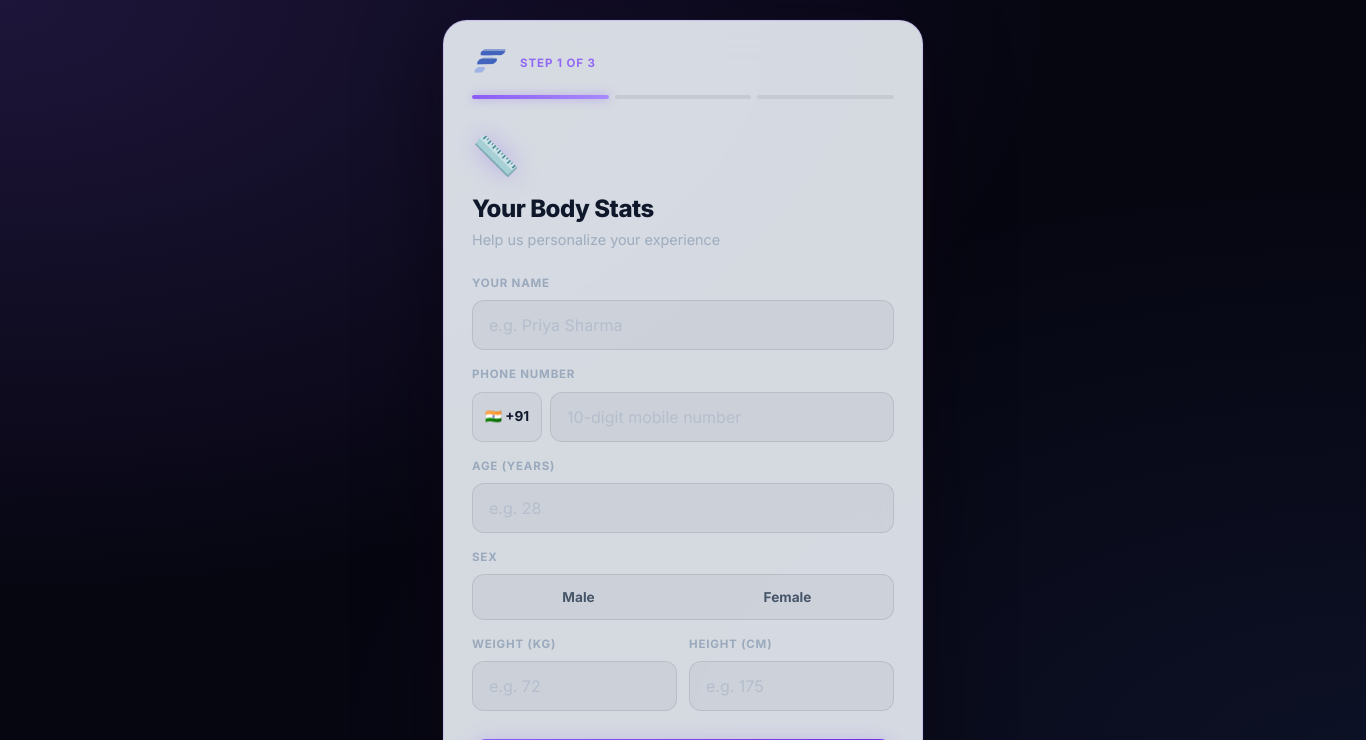
ClientOnboardingWizard step 1 body stats › moves on once all six fields are valid
The width and height of the screenshot is (1366, 740).
Type "Asha" into the field with placeholder "e.g. Priya Sharma" at (683,325), box [472,300,894,350]
Type "9876543210" into the field with placeholder "10-digit mobile number" at (722,416), box [550,392,894,442]
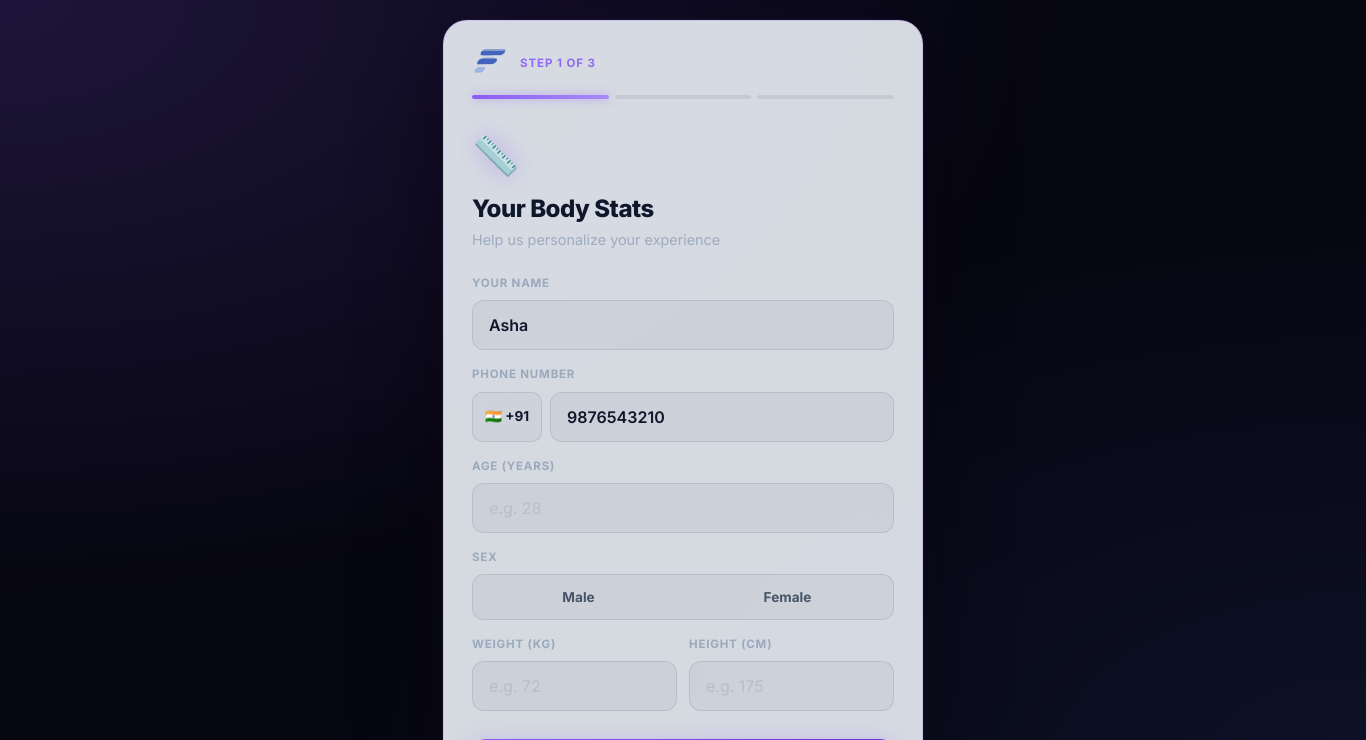
Type "29" into the number field with placeholder "e.g. 28" at (683,508), box [472,483,894,533]
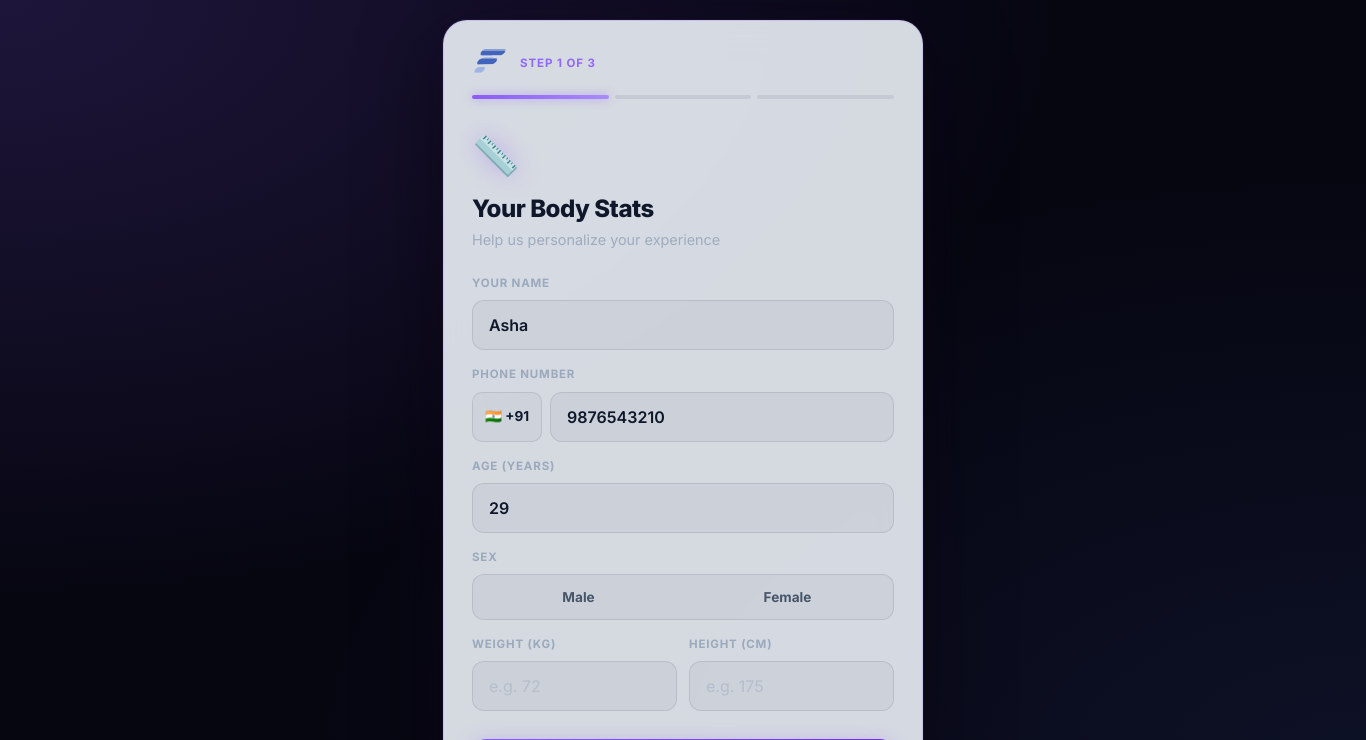
Click the radio button labelled "Female" at (788,597), box [686,579,889,615]
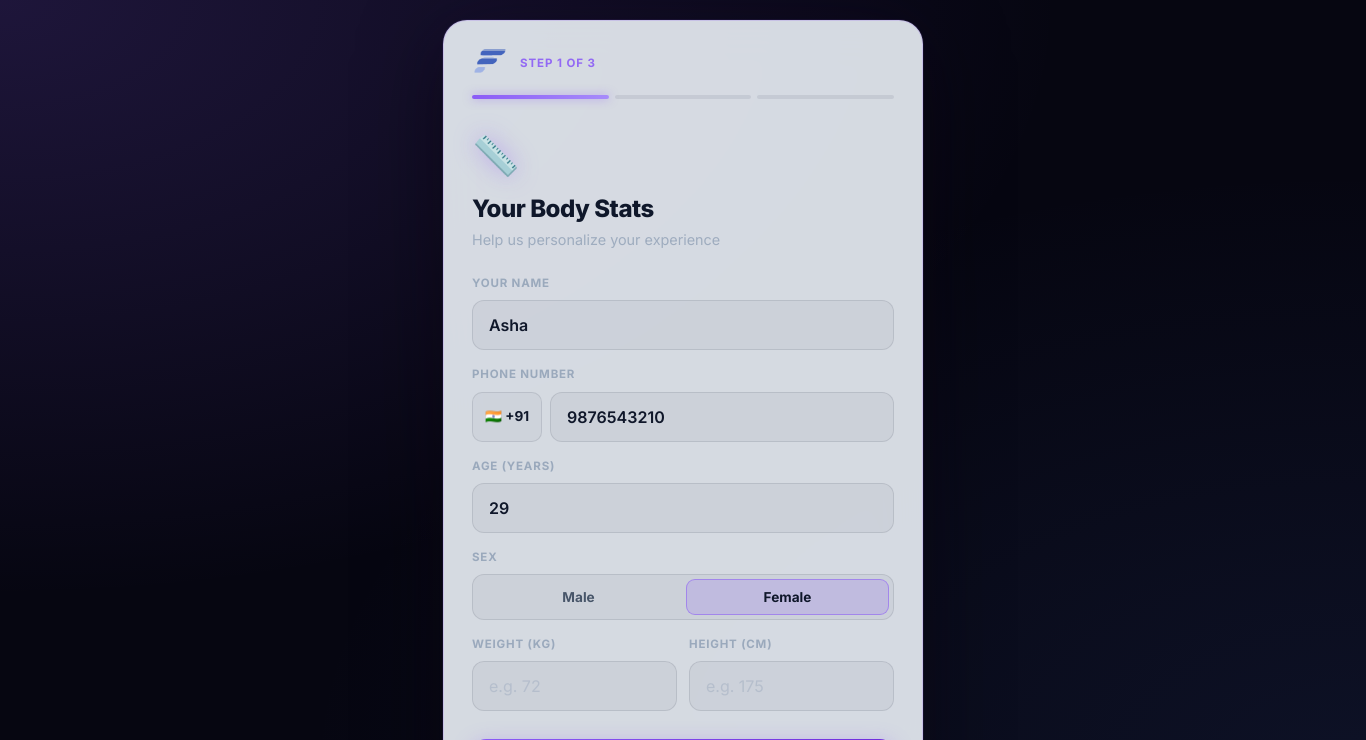
Type "64.5" into the number field with placeholder "e.g. 72" at (574,686), box [472,661,677,711]
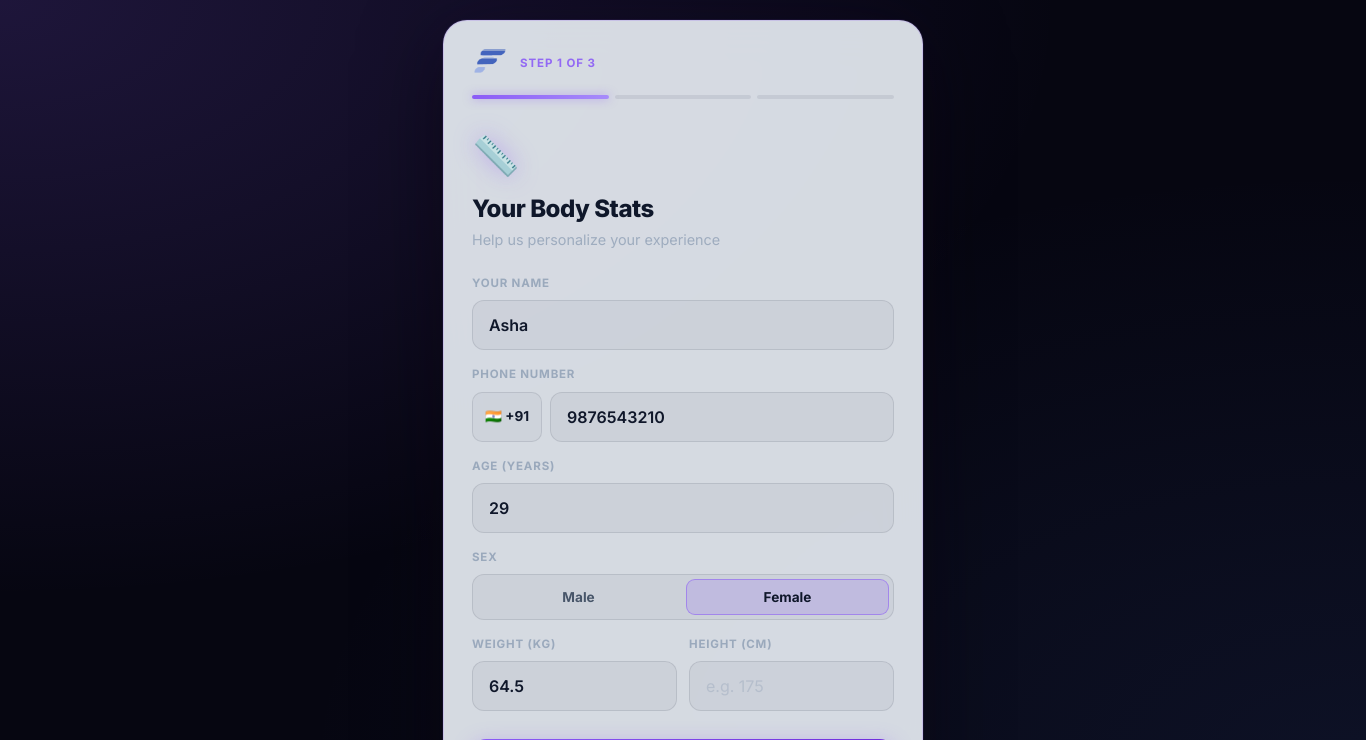
Type "162" into the number field with placeholder "e.g. 175" at (792,686), box [689,661,894,711]
(page scrolled)
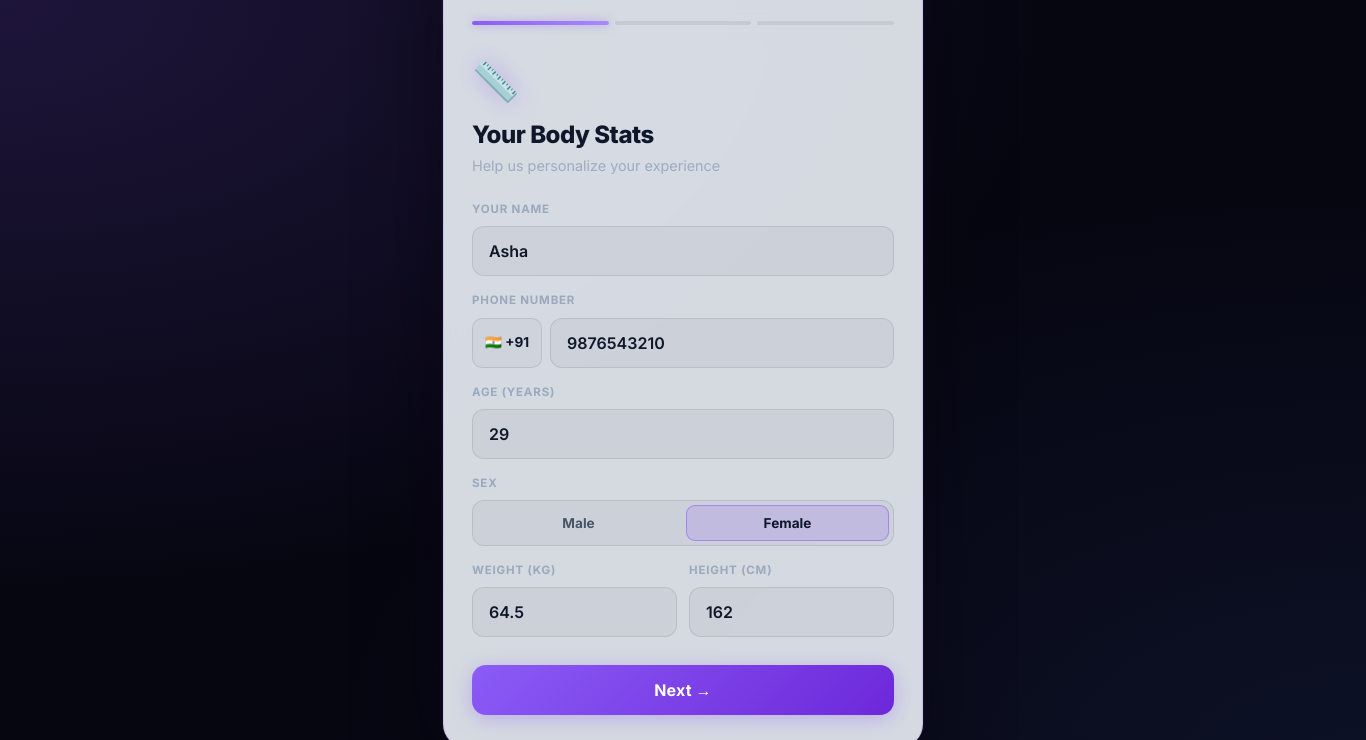
Click the button "Next →" at (683,690), box [472,665,894,715]
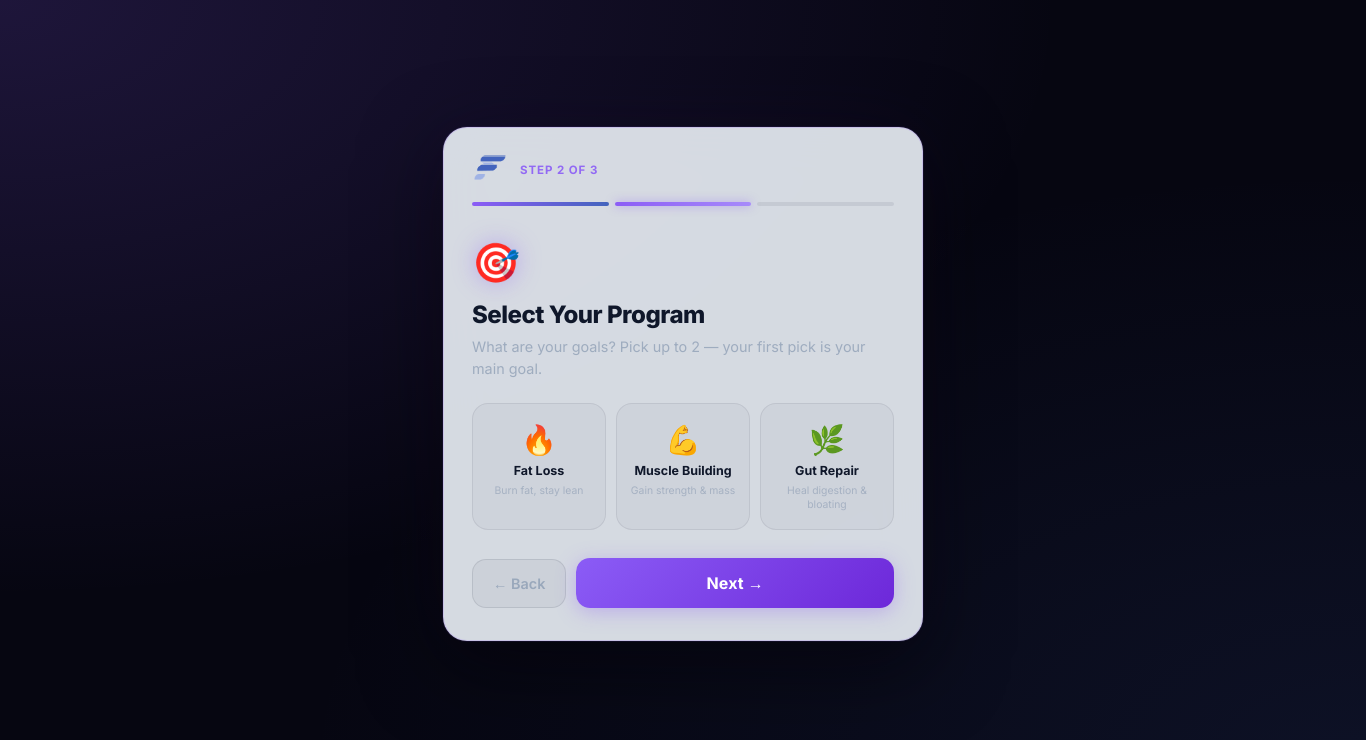
Now the heading "Select Your Program" is shown, box [472,300,705,329]
